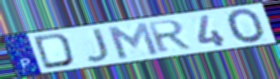4: (196, 13, 228, 48)
D: (32, 32, 77, 71)
J: (84, 27, 112, 64)
M: (104, 20, 162, 60)
O: (225, 7, 268, 45)
R: (145, 19, 194, 55)
